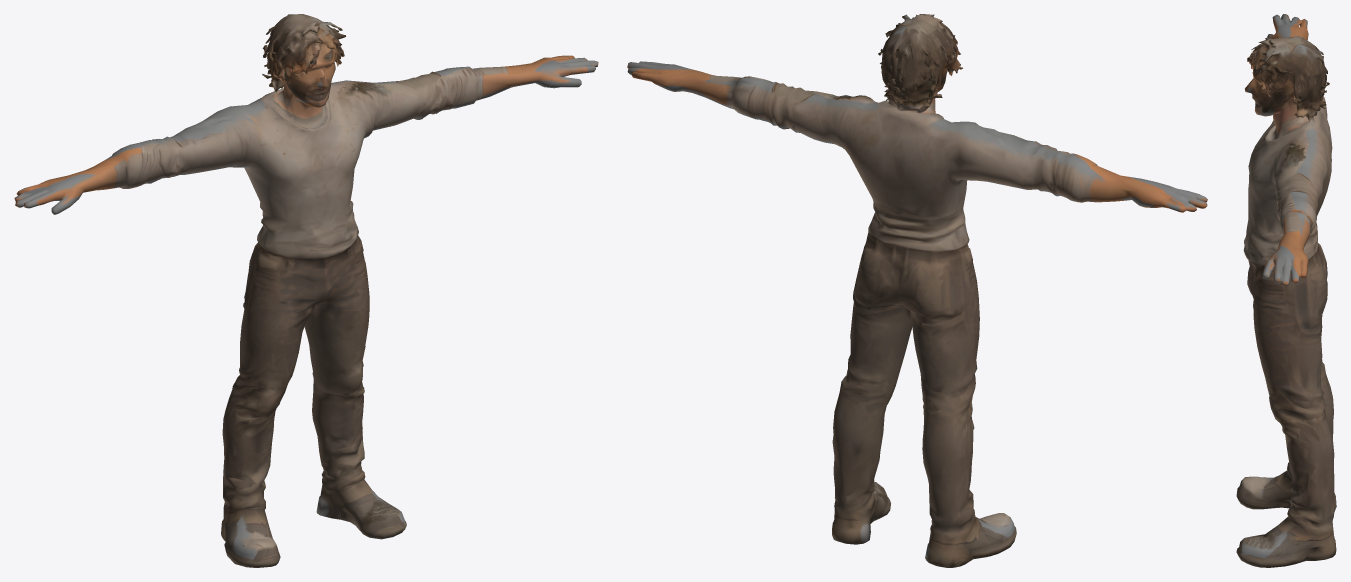
The model's file is maleprot_lowpoly_balanced_2k.glb.
The picture shows the model from 3 angles, left to right: view 1: azimuth 30°, elevation 25°; view 2: azimuth 150°, elevation 25°; view 3: azimuth 270°, elevation 25°; orthographic projection. The views are drawn at different scales.
Parts seen in each view (by area): view 1: MaleProtagonist_10k_2k; view 2: MaleProtagonist_10k_2k; view 3: MaleProtagonist_10k_2k.
Part boxes in pixels (x1,y1,x2,y2): MaleProtagonist_10k_2k: [14, 14, 598, 567]; MaleProtagonist_10k_2k: [627, 14, 1207, 567]; MaleProtagonist_10k_2k: [1236, 14, 1336, 567].
Bounding box in the file's own units: 1.09 × 0.9334 × 0.1724.
1 material, 1 textured.
